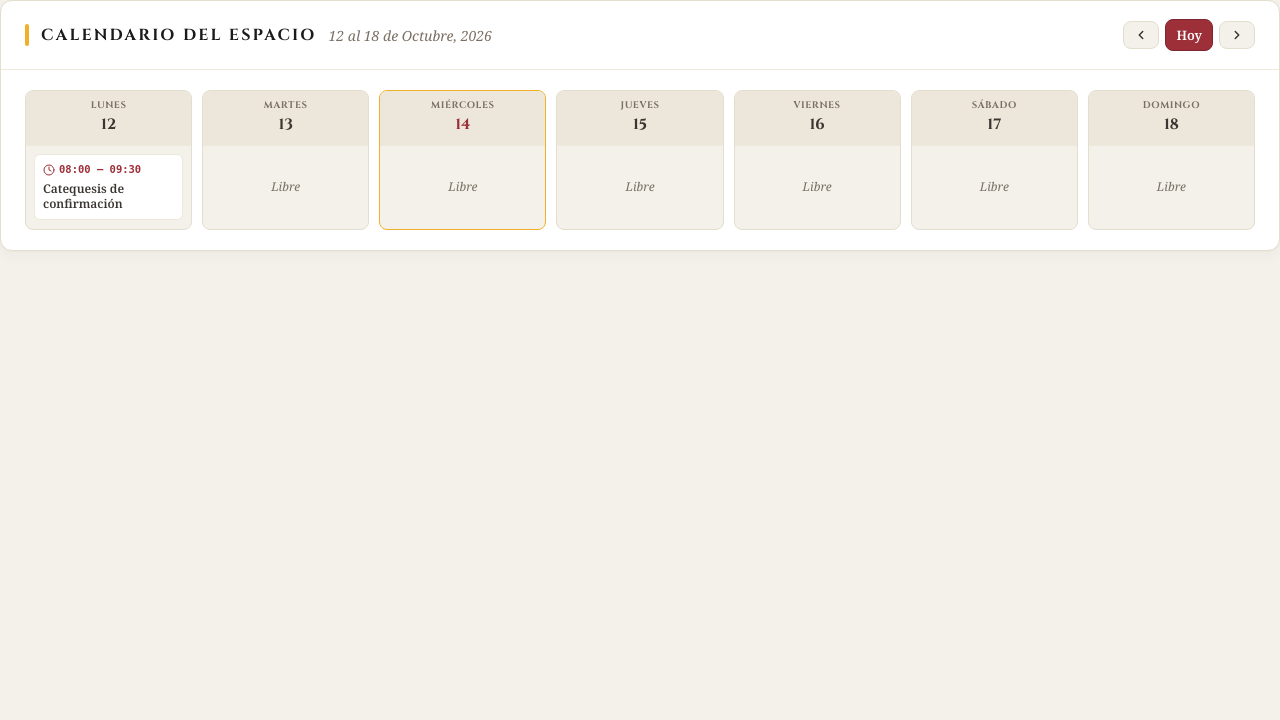
it: EspacioCalendarioReservas › muestra el detalle de la reserva al hacer click y lo cierra
Step 1. Click the text "Catequesis de confirmación" → click(84, 196), box top-left (43, 180), bottom-right (124, 212)
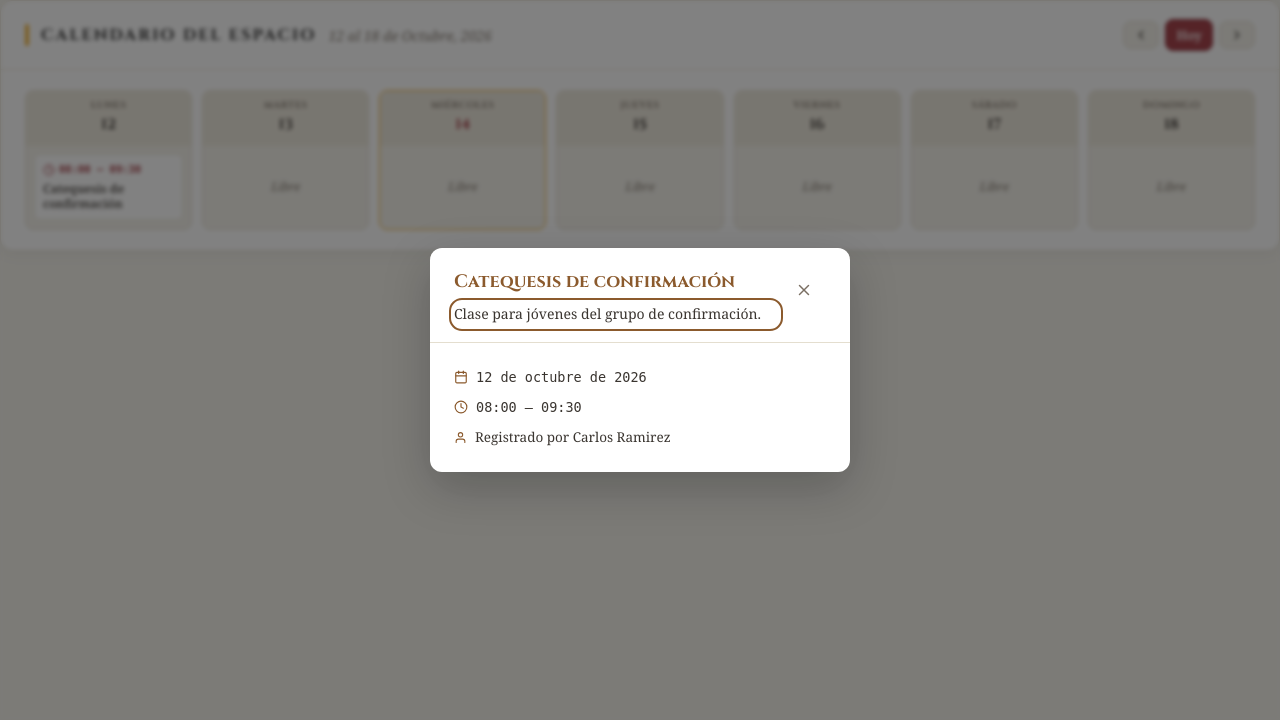
Now the heading "Catequesis de confirmación" is shown, box top-left (454, 268), bottom-right (778, 295)
Now the text "08:00 – 09:30" is shown, box top-left (476, 397), bottom-right (582, 417)
Now the text "Clase para jóvenes del grupo de confirmación." is shown, box top-left (454, 303), bottom-right (778, 326)
Step 2. Click the button named "Cerrar" → click(804, 290), box top-left (782, 268), bottom-right (826, 312)
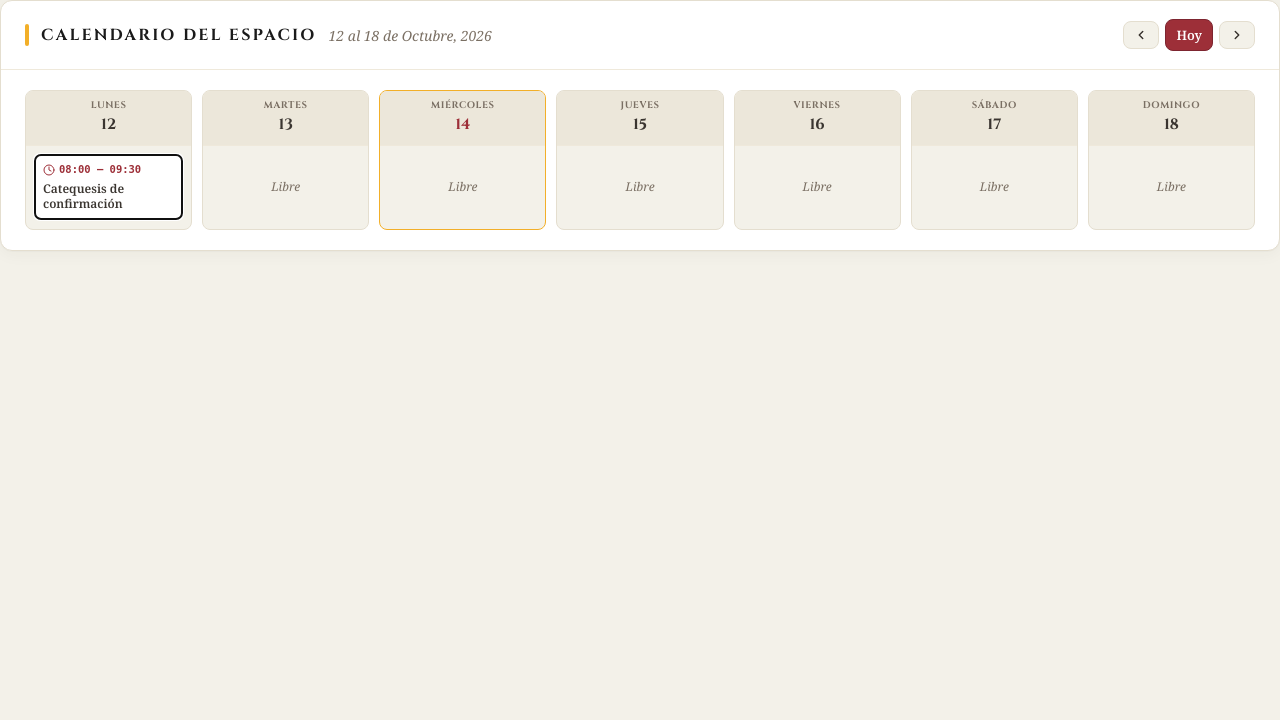
Now the text "Clase para jóvenes del grupo de confirmación." is gone
